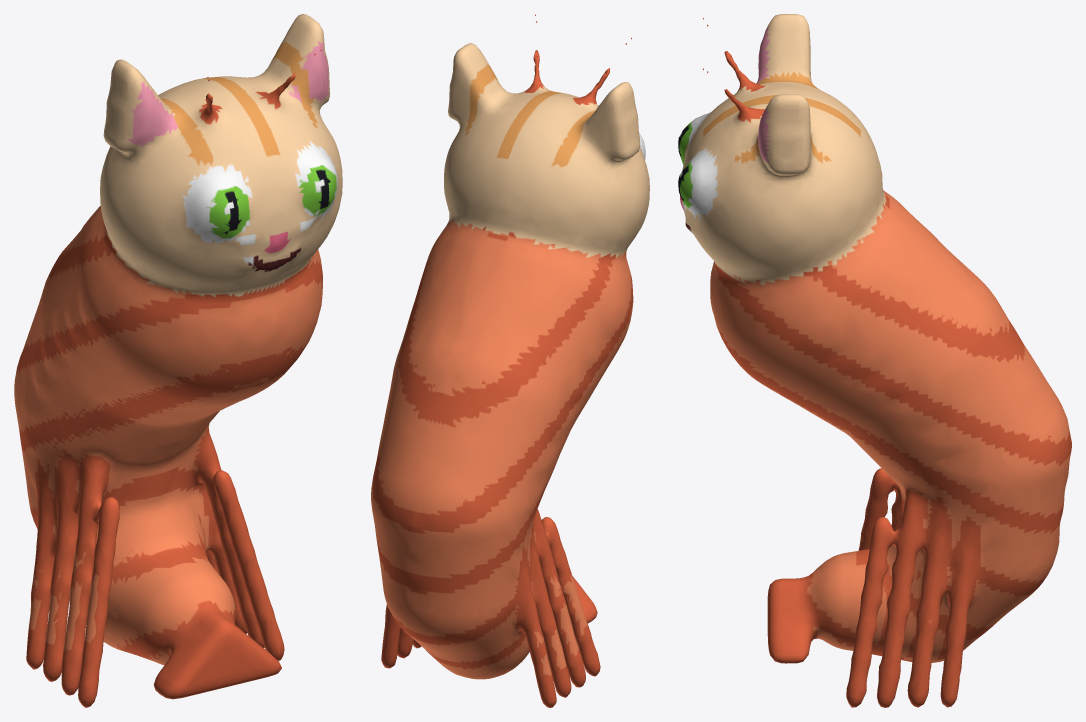
File: SM_Trippi_Troppi.fbx
3 views of the same model, side by side, from view 1: azimuth 30°, elevation 25°; view 2: azimuth 150°, elevation 25°; view 3: azimuth 270°, elevation 25° (orthographic). The views are drawn at different scales.
Visible parts, largest first — view 1: Trippi_Troppi; view 2: Trippi_Troppi; view 3: Trippi_Troppi.
Boxes of the visible parts, x1,y1,x2,y2 form: Trippi_Troppi: (14, 14, 342, 707); Trippi_Troppi: (371, 14, 649, 707); Trippi_Troppi: (678, 14, 1071, 707).
Size of the model in its own units: 0.4798 by 1.43 by 0.8228.
1 material, 1 textured.
